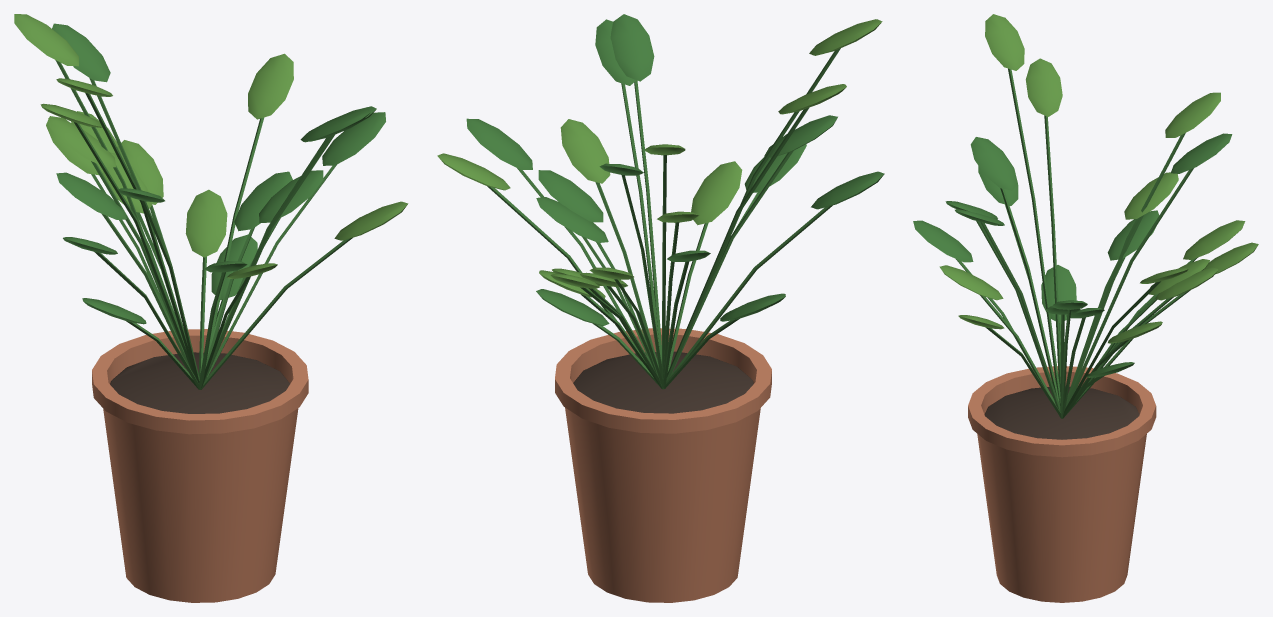
The model's file is floor_plant_4.glb.
3 views of the same model, side by side, from view 1: azimuth 30°, elevation 25°; view 2: azimuth 150°, elevation 25°; view 3: azimuth 270°, elevation 25° (orthographic). The views are drawn at different scales.
Visible parts, largest first — view 1: Pot, Leaves, Leaves light, Soil; view 2: Pot, Leaves, Leaves light, Soil; view 3: Pot, Leaves, Leaves light, Soil.
Part boxes in pixels (bbox=[...]): Pot: bbox=[92, 329, 308, 602]; Leaves: bbox=[52, 23, 385, 389]; Leaves light: bbox=[14, 14, 408, 278]; Soil: bbox=[110, 352, 289, 413]; Pot: bbox=[555, 328, 771, 602]; Leaves: bbox=[466, 14, 884, 389]; Leaves light: bbox=[437, 19, 882, 298]; Soil: bbox=[573, 351, 753, 413]; Pot: bbox=[968, 366, 1156, 602]; Leaves: bbox=[913, 68, 1232, 418]; Leaves light: bbox=[939, 14, 1258, 343]; Soil: bbox=[984, 386, 1139, 439].
Bounding box in the file's own units: 0.846 × 1.23 × 0.794.
